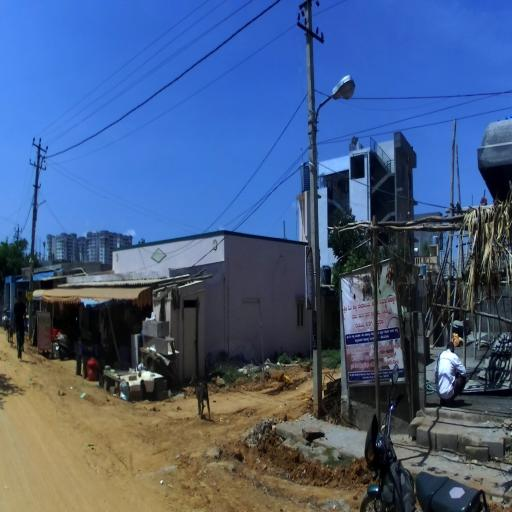street_light_0: (308, 76, 355, 138)
